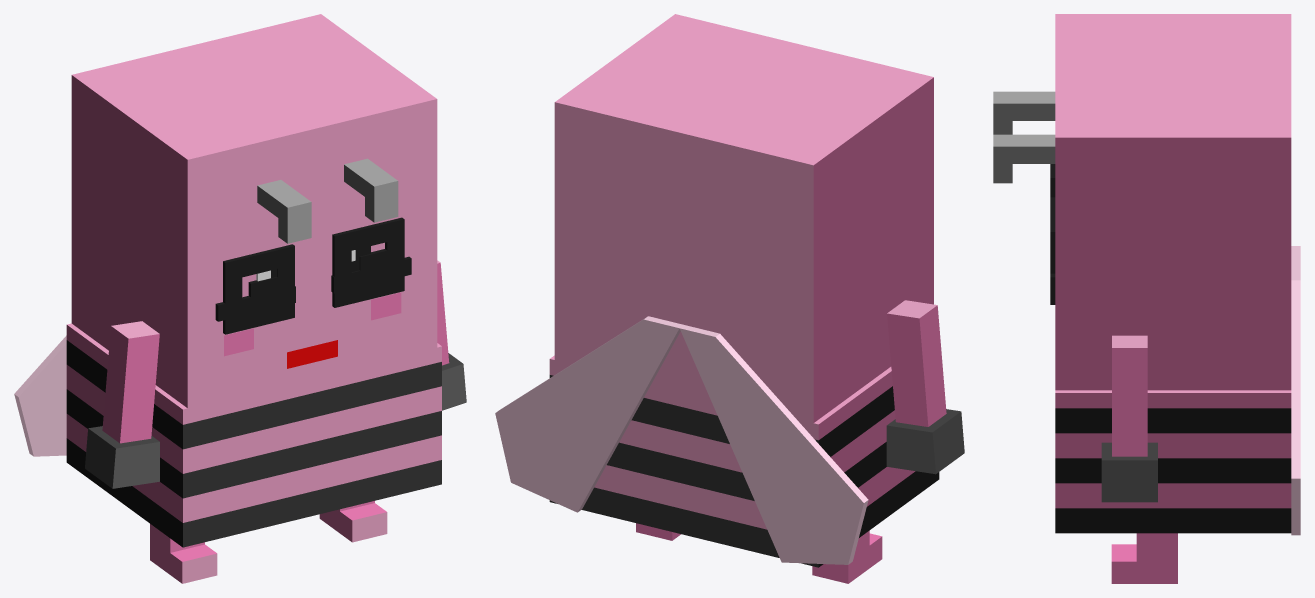
3 views of the same model, side by side, from view 1: azimuth 30°, elevation 25°; view 2: azimuth 150°, elevation 25°; view 3: azimuth 270°, elevation 25° (orthographic). The views are drawn at different scales.
Parts seen in each view (by area): view 1: Ch_209_Head, Ch_209, Ch_209_Arm_L, Ch_209_Eye_03_R, Ch_209_Eye_03_L, Ch_209_Wing_R, Ch_209_Leg_L, Ch_209_Leg_R, Ch_209_Arm_R, Ch_209_Eye_02; view 2: Ch_209_Head, Ch_209, Ch_209_Wing_R, Ch_209_Wing_L, Ch_209_Arm_L, Ch_209_Leg_L; view 3: Ch_209_Head, Ch_209, Ch_209_Arm_R, Ch_209_Leg_R, Ch_209_Wing_L, Ch_209_Eye_03_R.
Part boxes in pixels (left/top/right/bottom): Ch_209_Head: left=71, top=14, right=437, bottom=408; Ch_209: left=66, top=323, right=441, bottom=547; Ch_209_Arm_L: left=85, top=321, right=159, bottom=488; Ch_209_Eye_03_R: left=332, top=217, right=404, bottom=307; Ch_209_Eye_03_L: left=223, top=244, right=294, bottom=334; Ch_209_Wing_R: left=14, top=335, right=66, bottom=456; Ch_209_Leg_L: left=150, top=524, right=217, bottom=583; Ch_209_Leg_R: left=319, top=501, right=387, bottom=542; Ch_209_Arm_R: left=437, top=260, right=466, bottom=410; Ch_209_Eye_02: left=215, top=256, right=411, bottom=321; Ch_209_Head: left=554, top=14, right=933, bottom=422; Ch_209: left=549, top=355, right=939, bottom=567; Ch_209_Wing_R: left=679, top=325, right=868, bottom=564; Ch_209_Wing_L: left=495, top=316, right=683, bottom=512; Ch_209_Arm_L: left=886, top=300, right=964, bottom=474; Ch_209_Leg_L: left=812, top=530, right=882, bottom=583; Ch_209_Head: left=993, top=14, right=1291, bottom=390; Ch_209: left=1055, top=390, right=1291, bottom=533; Ch_209_Arm_R: left=1101, top=335, right=1157, bottom=502; Ch_209_Leg_R: left=1111, top=533, right=1177, bottom=583; Ch_209_Wing_L: left=1291, top=263, right=1300, bottom=535; Ch_209_Eye_03_R: left=1050, top=197, right=1055, bottom=304.
Bounding box in the file's own units: 6.65 × 8.05 × 4.9.
